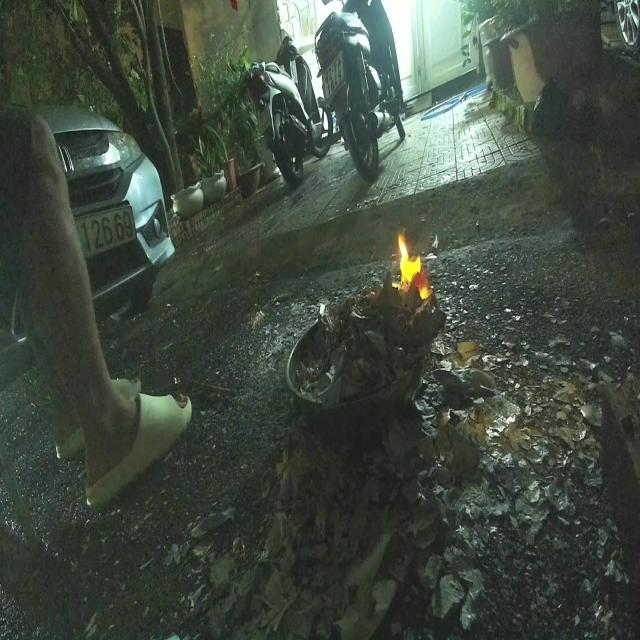Fire: (397, 234, 430, 304)
